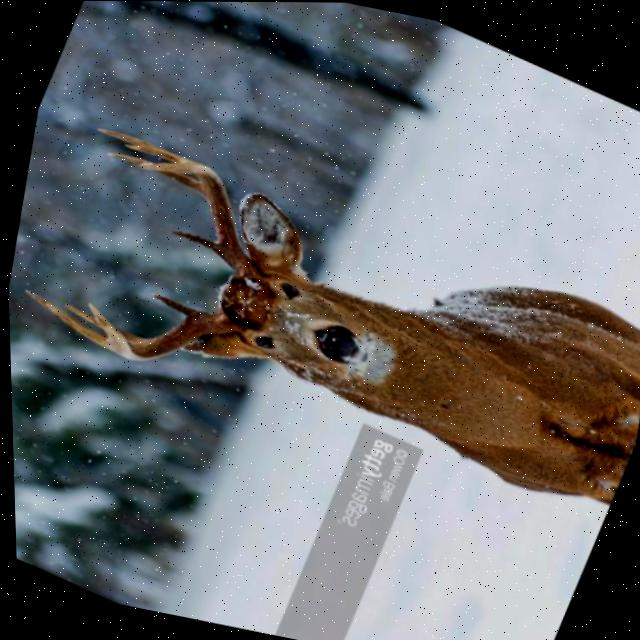L-F: (85, 300, 234, 359)
L-G1: (149, 291, 206, 320)
R-F: (135, 161, 260, 275)
R-G1: (169, 229, 220, 257)
